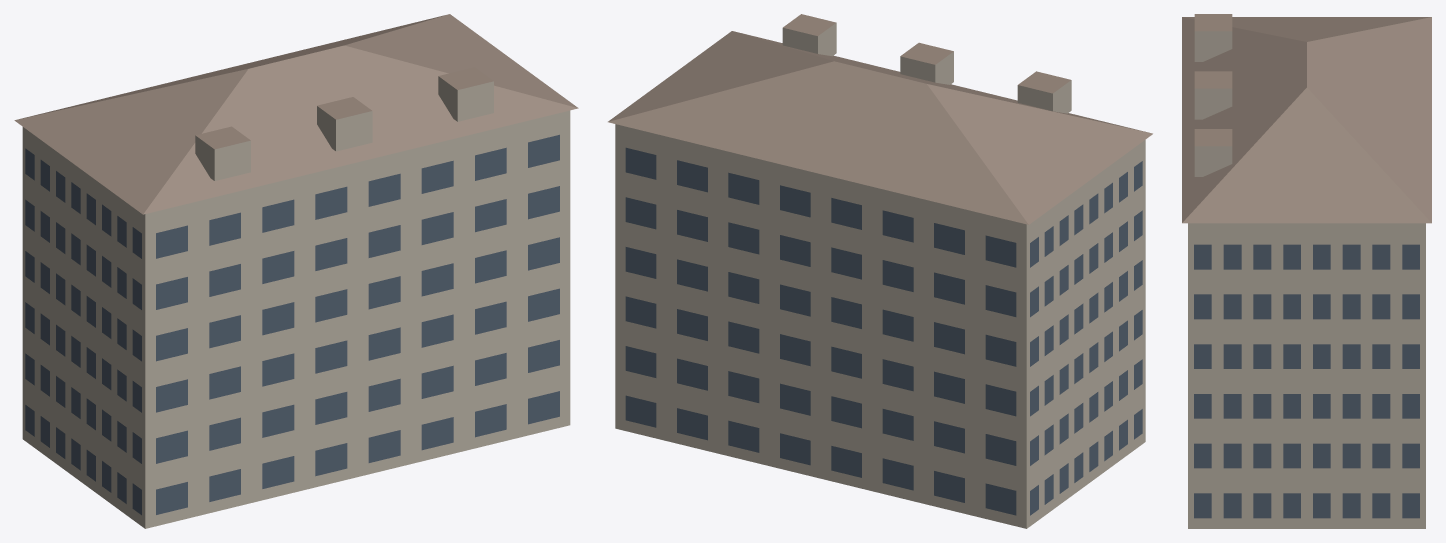
File: highrise_06_courtyard_mansard.glb
3 renders of one model, left to right at view 1: azimuth 30°, elevation 25°; view 2: azimuth 150°, elevation 25°; view 3: azimuth 270°, elevation 25°, orthographic. The views are drawn at different scales.
Visible parts, largest first — view 1: highrise_06_courtyard_mansard; view 2: highrise_06_courtyard_mansard; view 3: highrise_06_courtyard_mansard.
Boxes of the visible parts, x1,y1,x2,y2 form: highrise_06_courtyard_mansard: [14, 14, 578, 528]; highrise_06_courtyard_mansard: [608, 14, 1152, 528]; highrise_06_courtyard_mansard: [1182, 14, 1431, 528].
Size of the model in its own units: 28.7 by 23.6 by 14.7.
